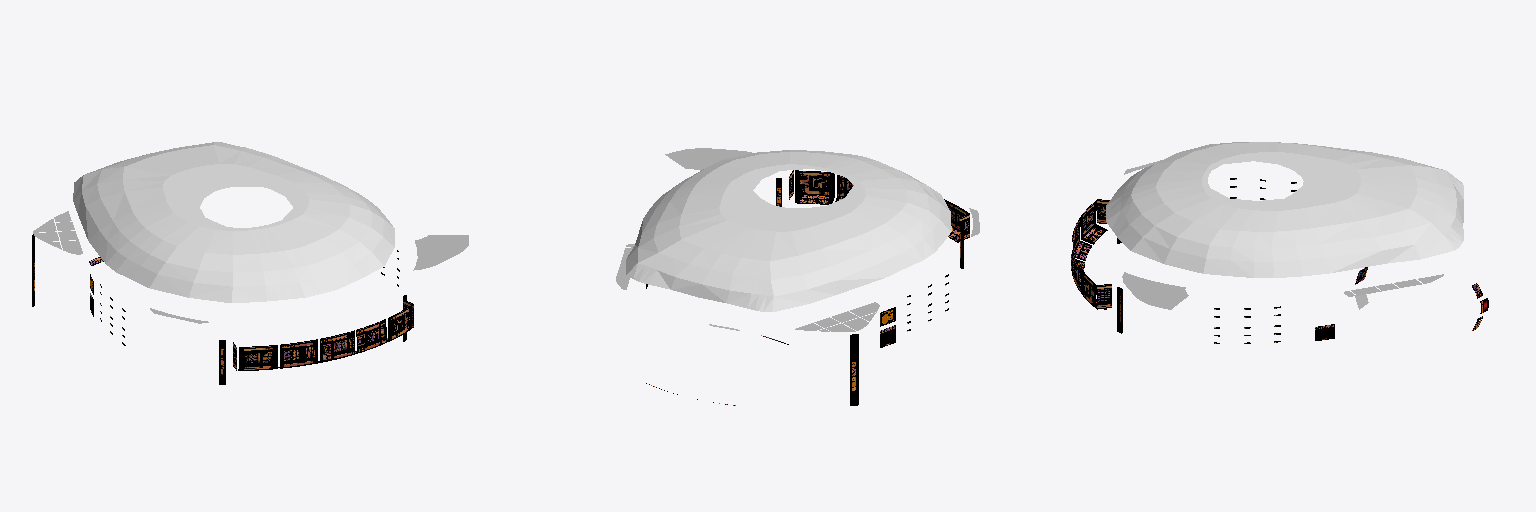
The picture shows the model from 3 angles: view 1: azimuth 30°, elevation 25°; view 2: azimuth 150°, elevation 25°; view 3: azimuth 270°, elevation 25°; orthographic projection.
Visible parts, largest first — view 1: Combined_Mesh_(root:_scene)_25.002, Combined_Mesh_(root:_scene)_26.002, Combined_Mesh_(root:_scene)_4.002, Combined_Mesh_(root:_scene)_9.002; view 2: Combined_Mesh_(root:_scene)_25.002, Combined_Mesh_(root:_scene)_4.002, Combined_Mesh_(root:_scene)_26.002, Combined_Mesh_(root:_scene)_9.002; view 3: Combined_Mesh_(root:_scene)_25.002, Combined_Mesh_(root:_scene)_4.002, Combined_Mesh_(root:_scene)_26.002, Consoles_2.
Part boxes in pixels (x1,y1,x2,y2): Combined_Mesh_(root:_scene)_25.002: (73, 142, 394, 302); Combined_Mesh_(root:_scene)_26.002: (233, 299, 413, 370); Combined_Mesh_(root:_scene)_4.002: (33, 211, 468, 323); Combined_Mesh_(root:_scene)_9.002: (32, 234, 406, 384); Combined_Mesh_(root:_scene)_25.002: (626, 150, 951, 311); Combined_Mesh_(root:_scene)_4.002: (616, 148, 979, 331); Combined_Mesh_(root:_scene)_26.002: (789, 170, 969, 239); Combined_Mesh_(root:_scene)_9.002: (776, 178, 963, 405); Combined_Mesh_(root:_scene)_25.002: (1106, 142, 1463, 277); Combined_Mesh_(root:_scene)_4.002: (1122, 160, 1443, 309); Combined_Mesh_(root:_scene)_26.002: (1071, 199, 1111, 309); Consoles_2: (1072, 224, 1107, 309).
Bounding box in the file's own units: 11.44 × 4.41 × 13.12.
9 materials, 6 textured.